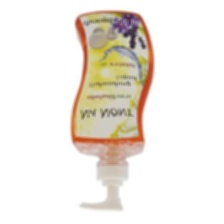cleaning_solution: (66, 7, 156, 216)
